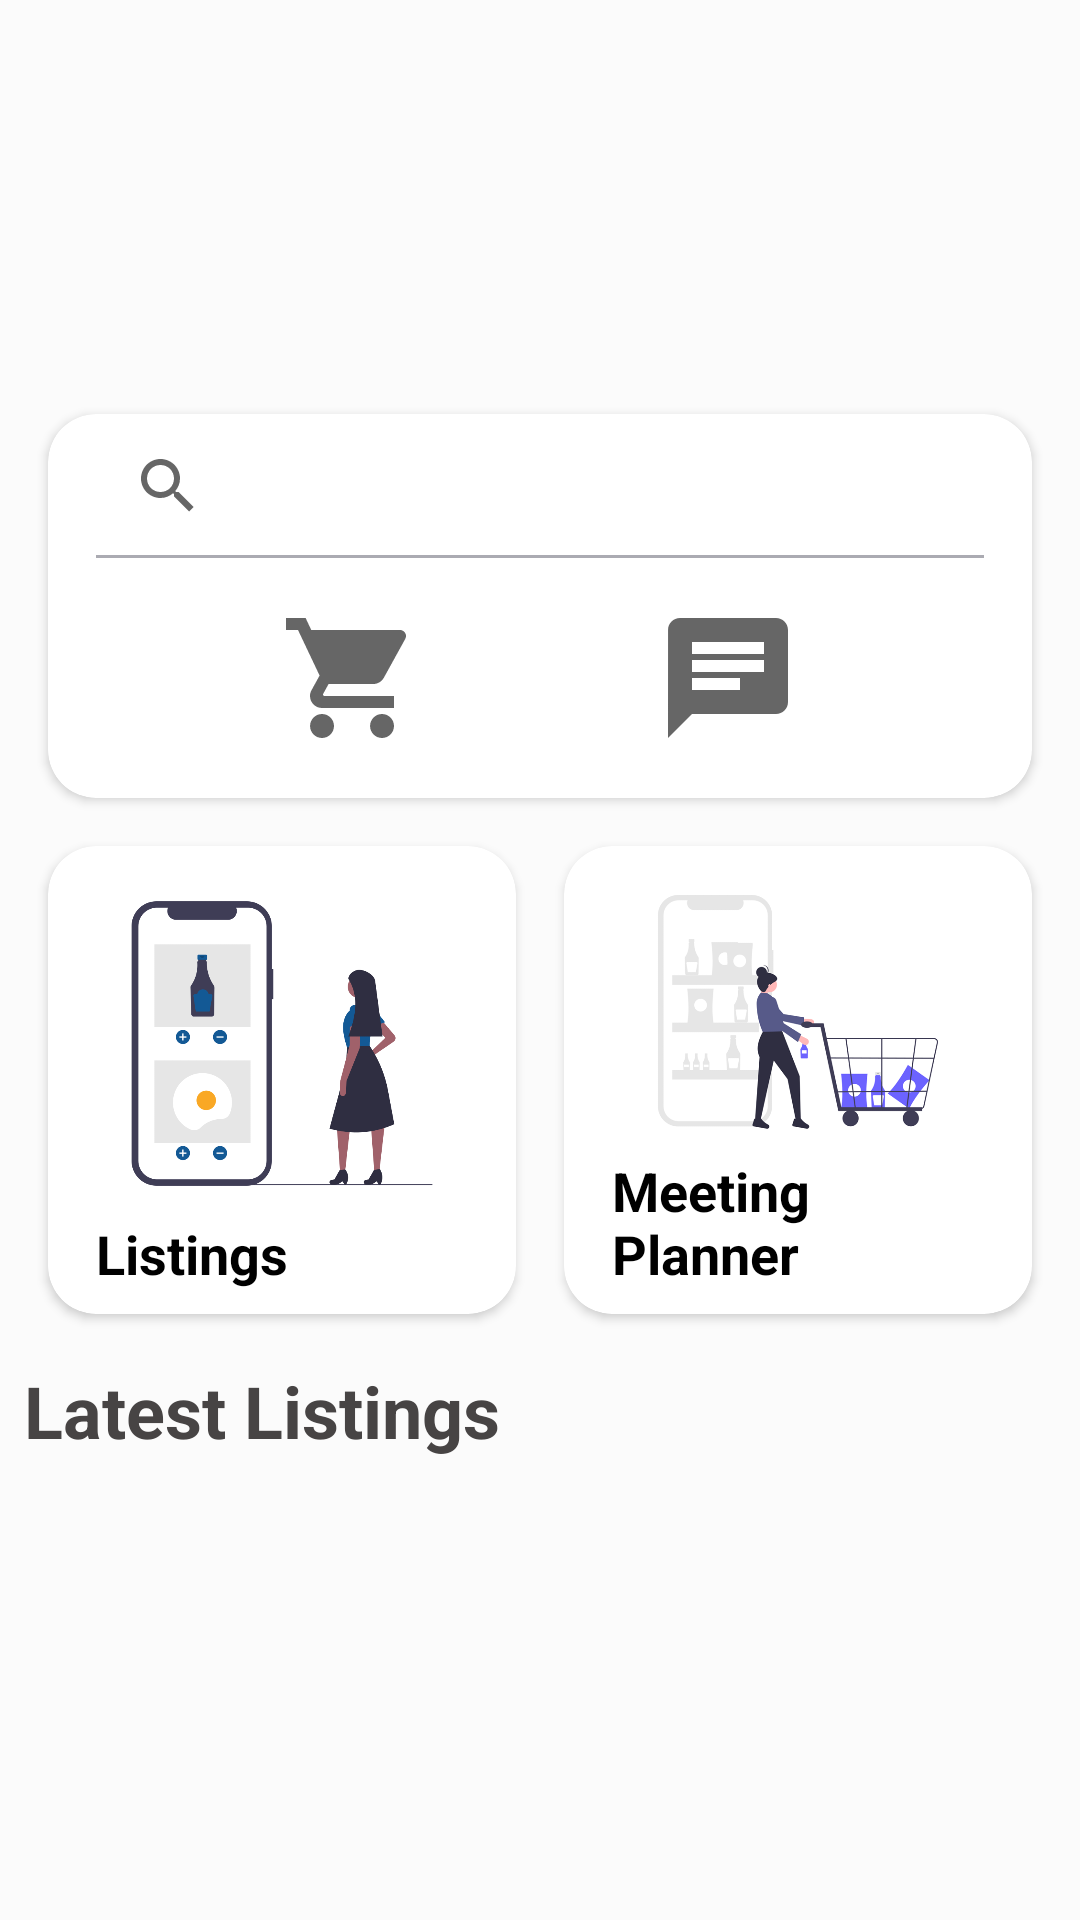

Icon click points for this 1080w x 1920h phone screenshot, format point (x, y):
chat: point (728, 678)
shopping cart: point (346, 678)
woman shopping cart: point (798, 1012)
